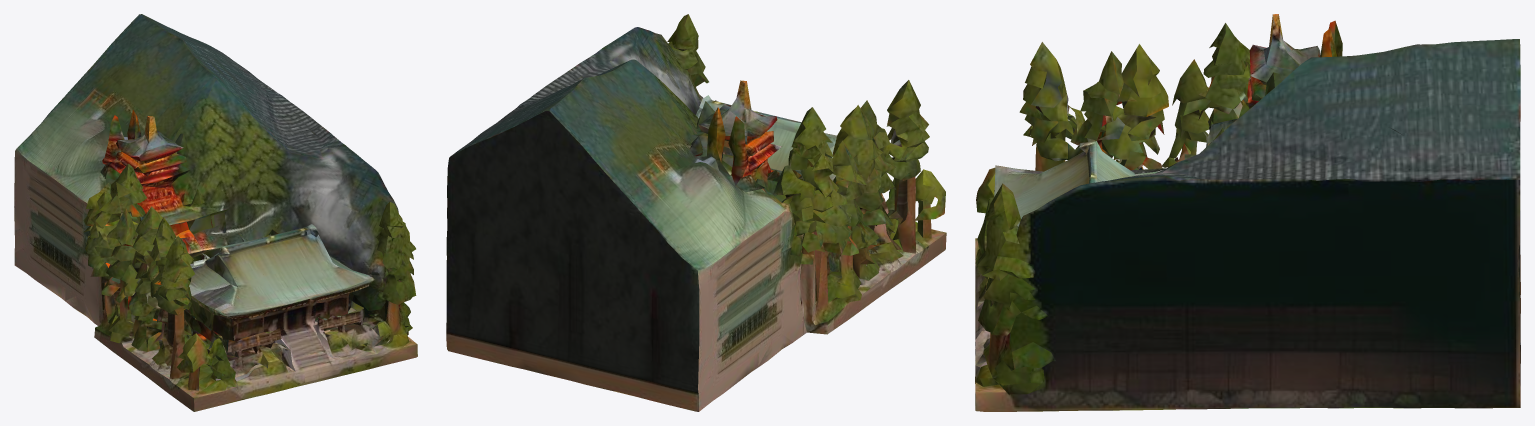
The model's file is enryakuji.glb.
3 renders of one model, left to right at view 1: azimuth 30°, elevation 25°; view 2: azimuth 150°, elevation 25°; view 3: azimuth 270°, elevation 25°, orthographic. The views are drawn at different scales.
Visible parts, largest first — view 1: logan-textured.obj; view 2: logan-textured.obj; view 3: logan-textured.obj.
Part boxes in pixels (x1,y1,x2,y2): logan-textured.obj: (14,14,417,411); logan-textured.obj: (446,14,946,411); logan-textured.obj: (975,14,1520,411).
Bounding box in the file's own units: 0.7321 × 0.6372 × 1.
1 material, 1 textured.
